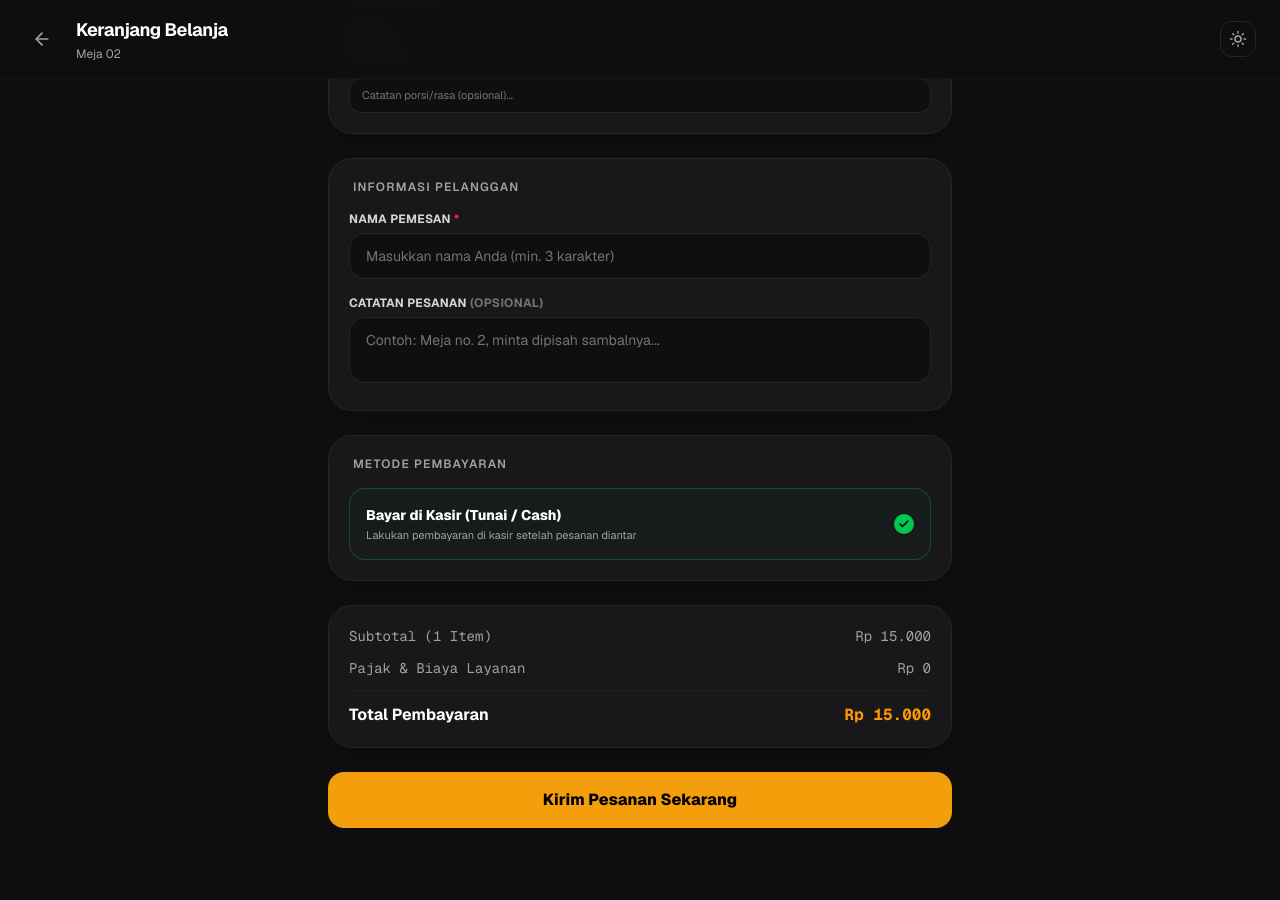
Test case: CartViewClient Component › validates customer name and shows error
(page scrolled)
Step 1. Click the button "Kirim Pesanan Sekarang" → (640, 800), box [328,772,952,828]
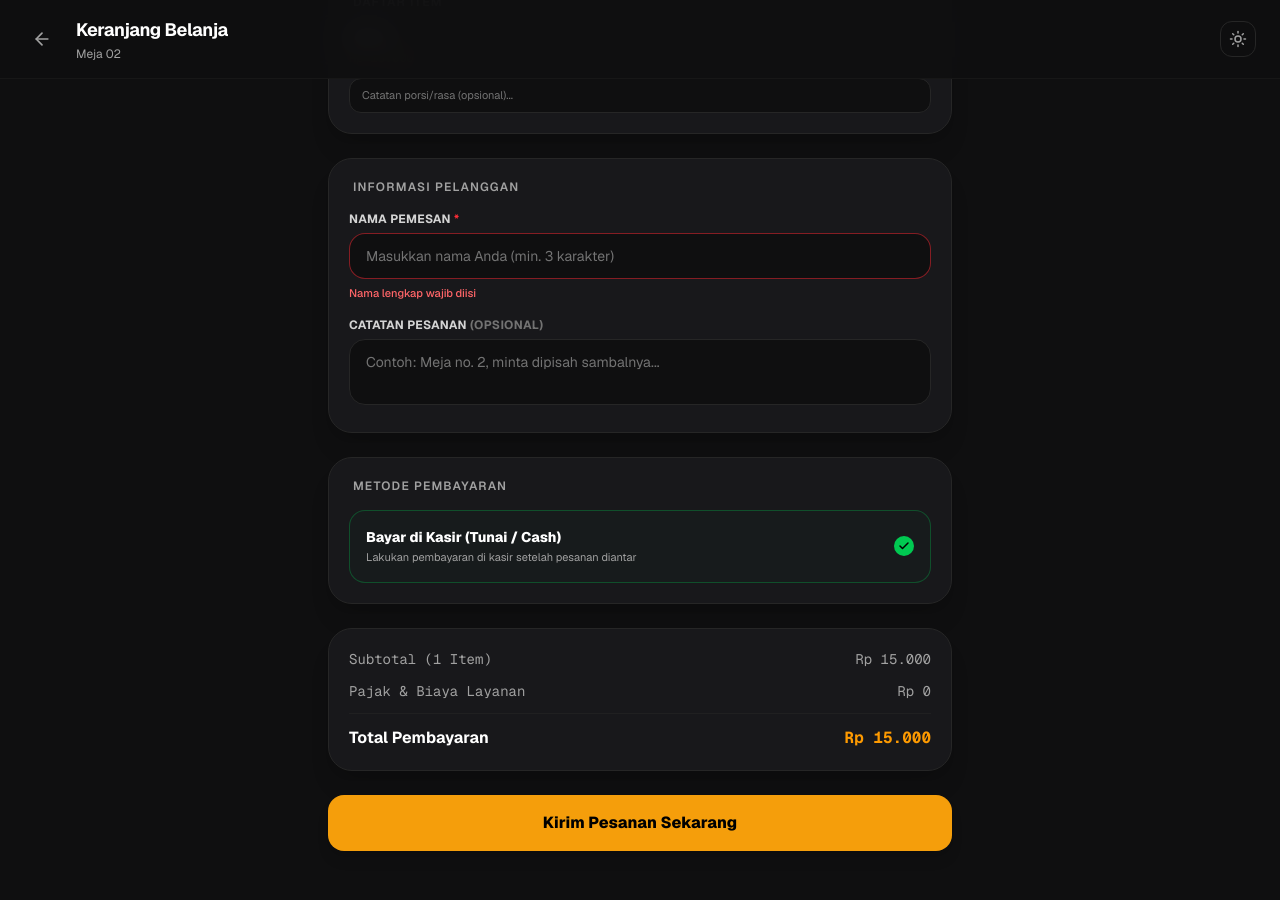
Now the text "Nama lengkap wajib diisi" is shown, box [349,286,476,300]
